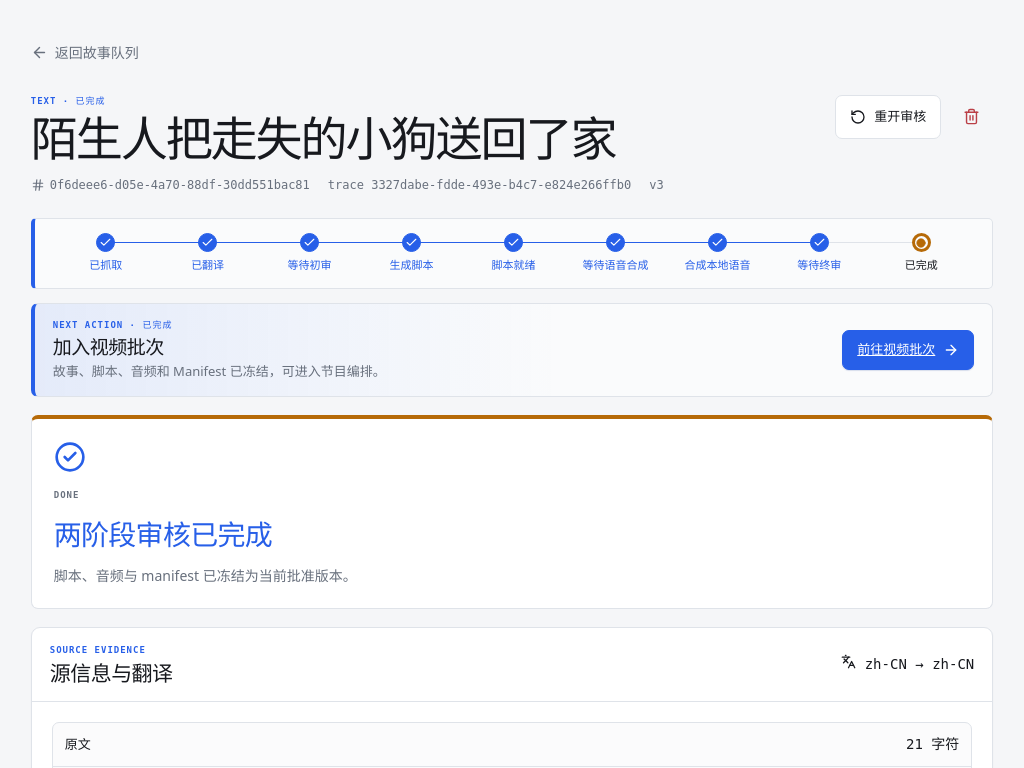
Test: StoryWorkbenchPage › returns to the active queue after a successful archive
Expected: the heading "陌生人把走失的小狗送回了家" is shown, x1=31 y1=113 x2=664 y2=164
Click the button named "归档故事": (971, 117) x1=949 y1=95 x2=993 y2=139
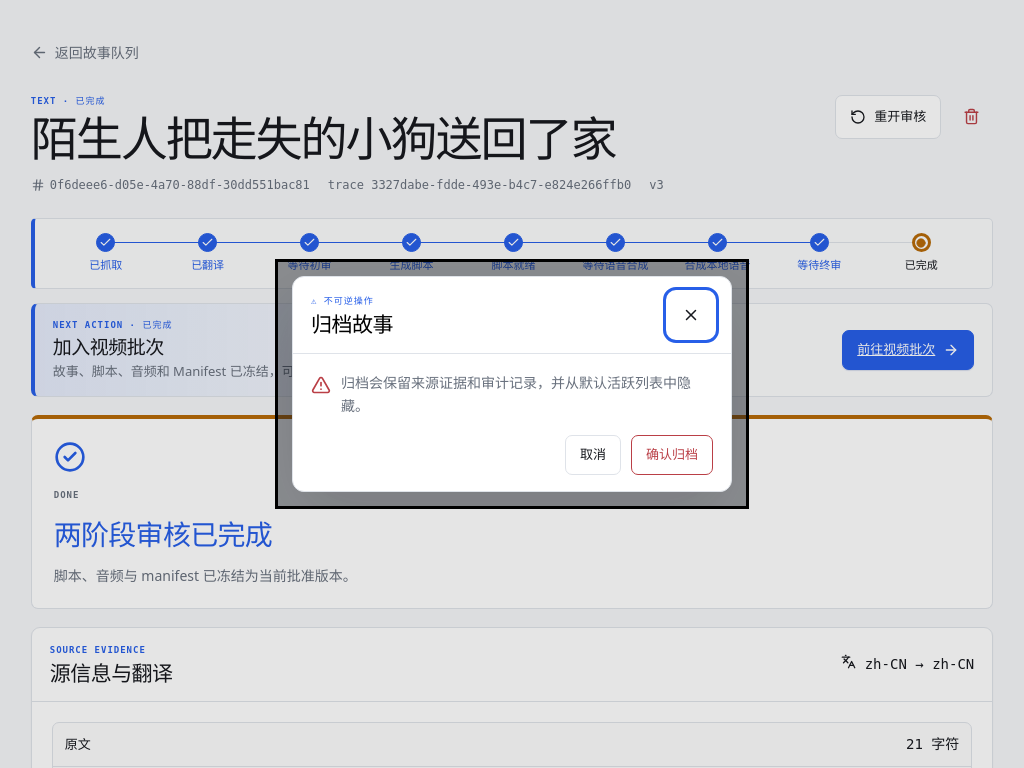
Click the button "确认归档": (672, 455) x1=631 y1=435 x2=713 y2=475
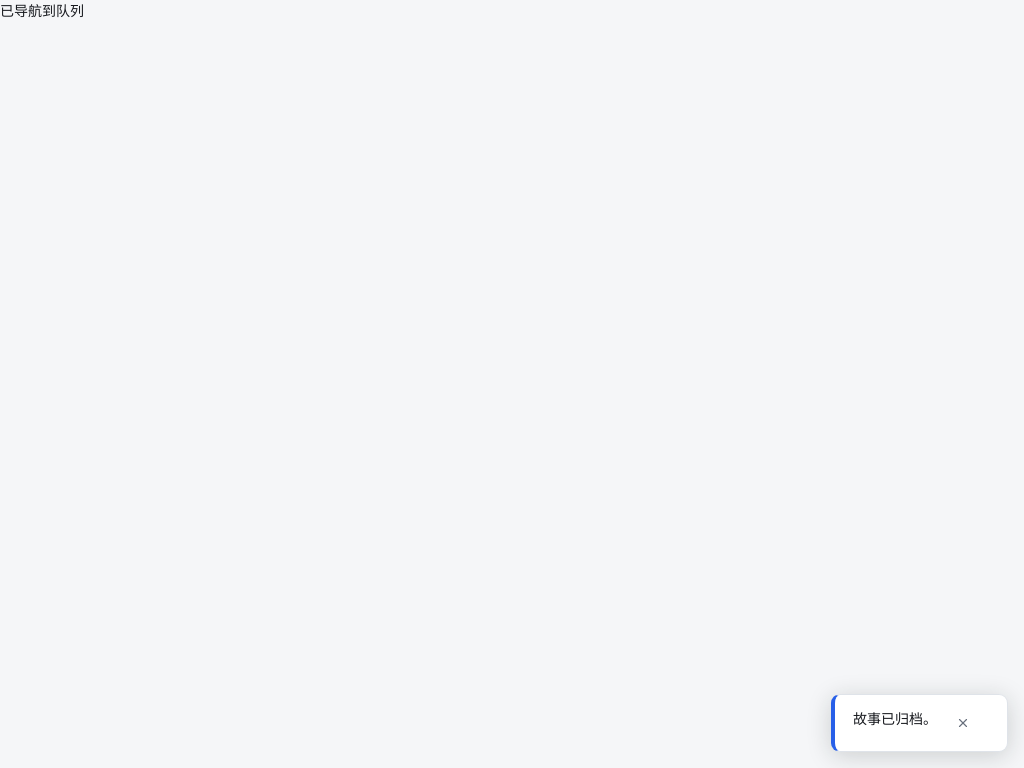
Now the text "已导航到队列" is shown, box x1=0 y1=1 x2=84 y2=20
